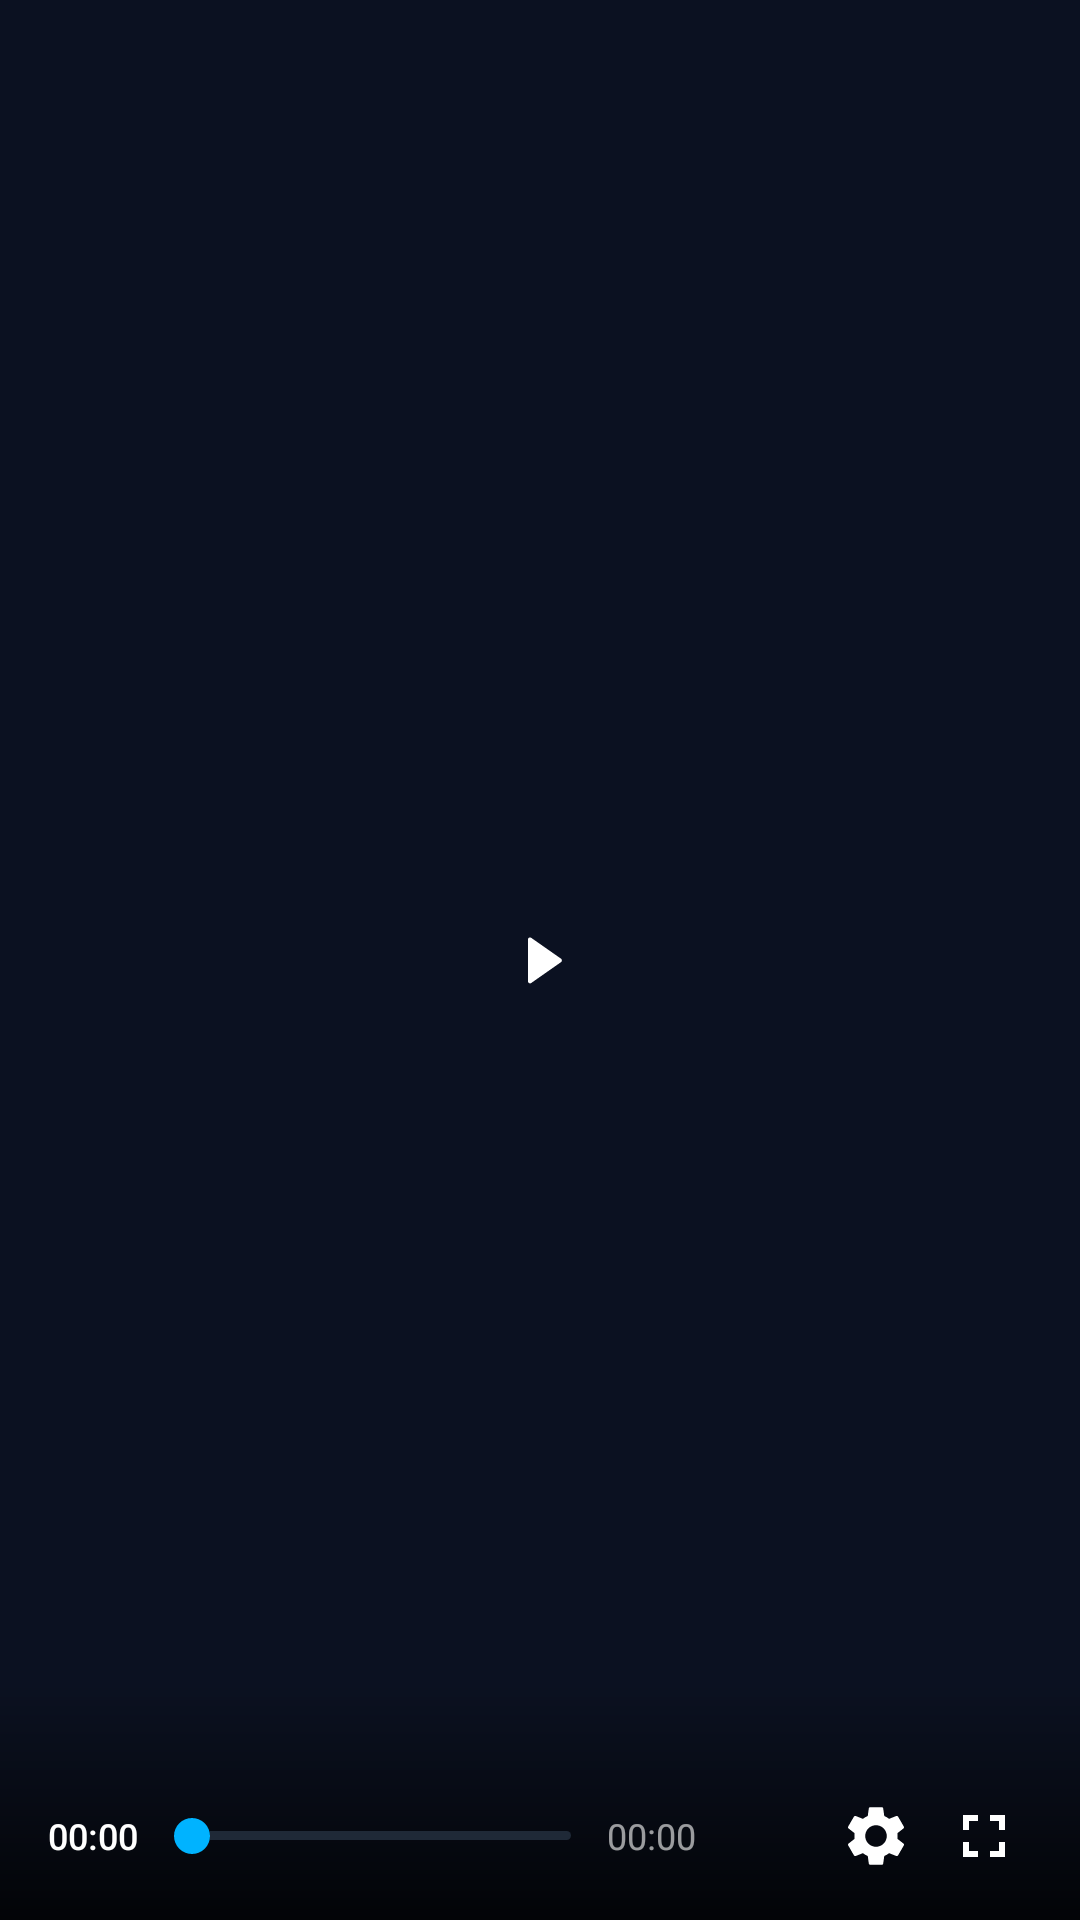

Where to tap for icons on this 1080px×1920px app screen, as point (x, y):
fullscreen: point (984, 1836)
play: point (545, 960)
settings: point (876, 1836)
